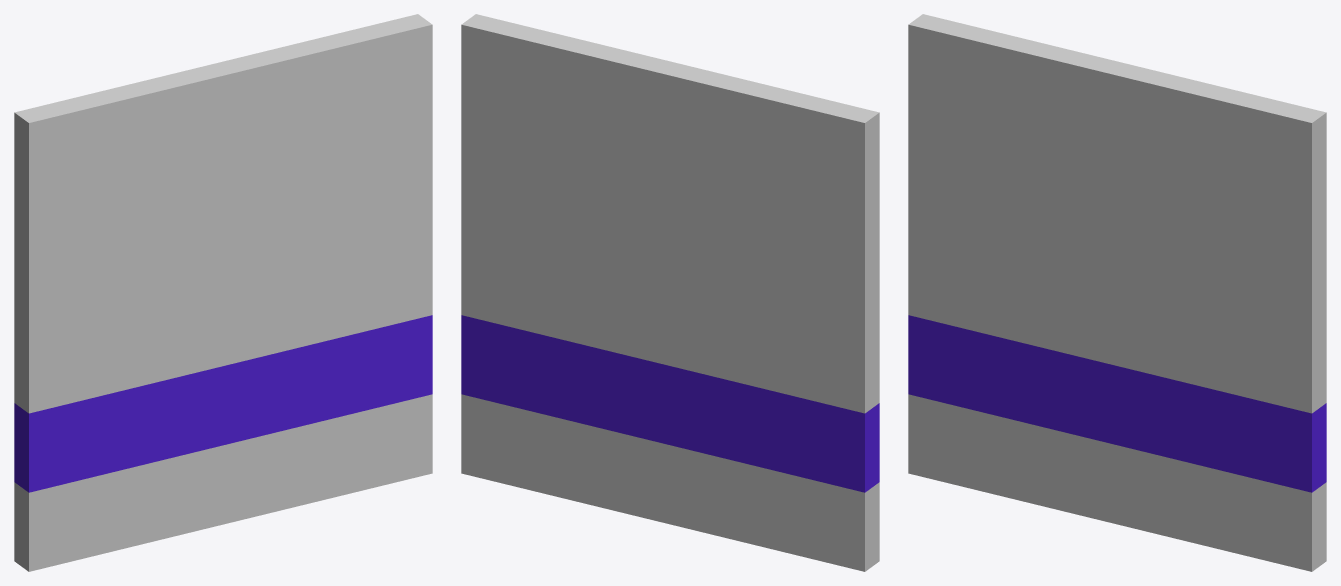
Rendered from sidewall.fbx.
The picture shows the model from 3 angles, left to right: view 1: azimuth 30°, elevation 25°; view 2: azimuth 150°, elevation 25°; view 3: azimuth 330°, elevation 25°; orthographic projection.
Parts seen in each view (by area): view 1: Cube; view 2: Cube; view 3: Cube.
Boxes of the visible parts, bbox=[...] form: Cube: bbox=[14, 14, 432, 571]; Cube: bbox=[461, 14, 879, 571]; Cube: bbox=[908, 14, 1326, 571].
Bounding box in the file's own units: 1600 × 1700 × 100.
